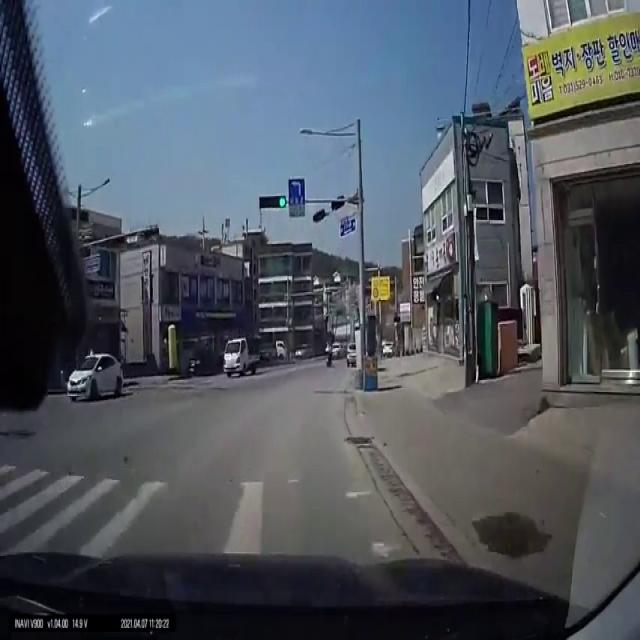Pothole: (342, 433, 374, 447)
